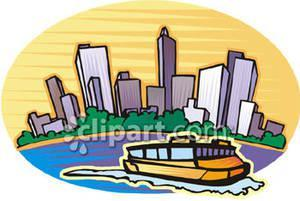boat: (119, 136, 258, 187)
